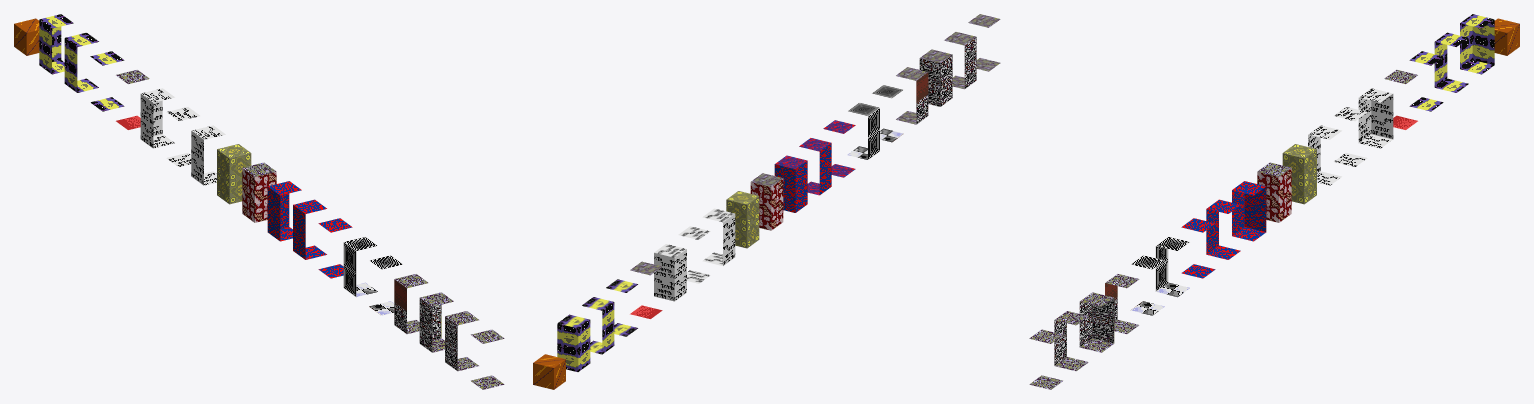
File: new_texturesFIX.glb
3 renders of one model, left to right at view 1: azimuth 30°, elevation 25°; view 2: azimuth 150°, elevation 25°; view 3: azimuth 330°, elevation 25°, orthographic. The views are drawn at different scales.
Visible parts, largest first — view 1: column_white-col, column_yellow-col, error_corner-col, normal_corner-col, doom_corner-col, sex_corner-col, sex_wall-col, ceramic_wall-col, doom_wall-col, normal_wall-col, error-wall-col, normal_courtain-col (+7 smaller); view 2: error_corner-col, sex_corner-col, normal_corner-col, doom_corner-col, column_yellow-col, column_white-col, error-wall-col, normal_courtain-col, box-col, sex_wall-col, ceramic_wall-col, doom_wall-col (+7 smaller); view 3: normal_corner-col, error_corner-col, doom_corner-col, sex_corner-col, column_white-col, column_yellow-col, ceramic_wall-col, sex_wall-col, doom_wall-col, normal_wall-col, box-col, normal_courtain-col (+7 smaller).
Boxes of the visible parts, bbox=[...] form: column_white-col: bbox=[242, 162, 276, 222]; column_yellow-col: bbox=[217, 144, 251, 204]; error_corner-col: bbox=[140, 88, 174, 148]; normal_corner-col: bbox=[419, 292, 453, 352]; doom_corner-col: bbox=[267, 181, 301, 241]; sex_corner-col: bbox=[39, 14, 73, 74]; sex_wall-col: bbox=[64, 32, 98, 92]; ceramic_wall-col: bbox=[343, 236, 377, 297]; doom_wall-col: bbox=[293, 199, 326, 259]; normal_wall-col: bbox=[445, 311, 479, 371]; error-wall-col: bbox=[191, 125, 225, 185]; normal_courtain-col: bbox=[394, 274, 428, 334]; error_corner-col: bbox=[654, 244, 686, 301]; sex_corner-col: bbox=[557, 314, 590, 371]; normal_corner-col: bbox=[919, 49, 952, 106]; doom_corner-col: bbox=[774, 155, 807, 212]; column_yellow-col: bbox=[726, 191, 759, 248]; column_white-col: bbox=[750, 173, 783, 230]; error-wall-col: bbox=[702, 208, 735, 265]; normal_courtain-col: bbox=[896, 67, 928, 124]; box-col: bbox=[533, 354, 565, 389]; sex_wall-col: bbox=[581, 297, 614, 354]; ceramic_wall-col: bbox=[847, 102, 879, 159]; doom_wall-col: bbox=[799, 138, 831, 195]; normal_corner-col: bbox=[1079, 292, 1114, 352]; error_corner-col: bbox=[1358, 88, 1393, 148]; doom_corner-col: bbox=[1232, 181, 1266, 241]; sex_corner-col: bbox=[1460, 14, 1494, 74]; column_white-col: bbox=[1257, 162, 1291, 222]; column_yellow-col: bbox=[1282, 144, 1316, 204]; ceramic_wall-col: bbox=[1155, 236, 1189, 297]; sex_wall-col: bbox=[1434, 32, 1468, 92]; doom_wall-col: bbox=[1206, 199, 1240, 259]; normal_wall-col: bbox=[1054, 311, 1088, 371]; box-col: bbox=[1494, 18, 1519, 55]; normal_courtain-col: bbox=[1105, 274, 1139, 334].
Bounding box in the file's own units: 1 × 2 × 37.
Materials: 1 (1 with a texture image).
